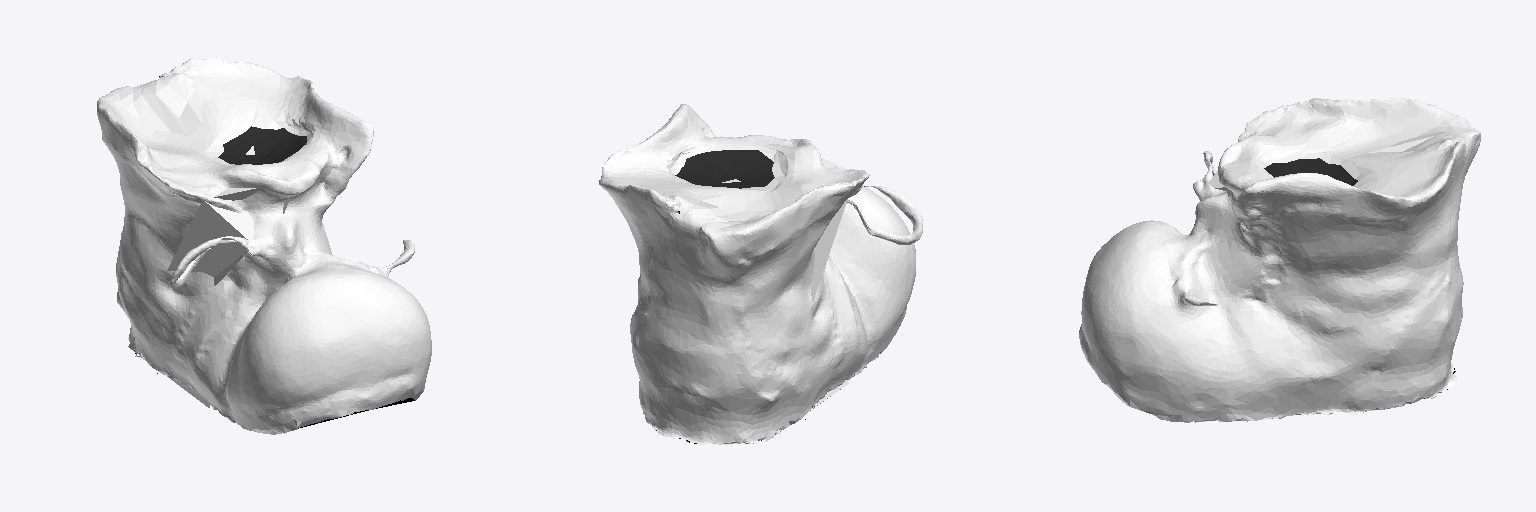
File: BOTA.obj
3 renders of one model, left to right at view 1: azimuth 30°, elevation 25°; view 2: azimuth 150°, elevation 25°; view 3: azimuth 270°, elevation 25°, orthographic.
Visible parts, largest first — view 1: default, Box001; view 2: default, Box001; view 3: default.
Boxes of the visible parts, box(x1,y1,x2,y2) form: default: box(97, 57, 431, 434); Box001: box(128, 146, 289, 407); default: box(599, 104, 922, 445); Box001: box(722, 157, 848, 441); default: box(1079, 98, 1480, 422).
Bounding box in the file's own units: 8.95 × 8.92 × 12.99.